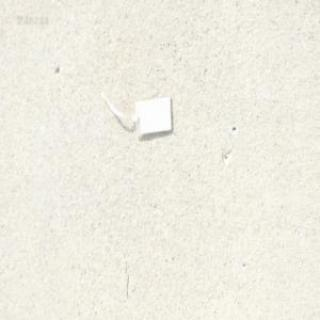LuggageTagtrack_idkeyframe: (97, 77, 173, 139)
